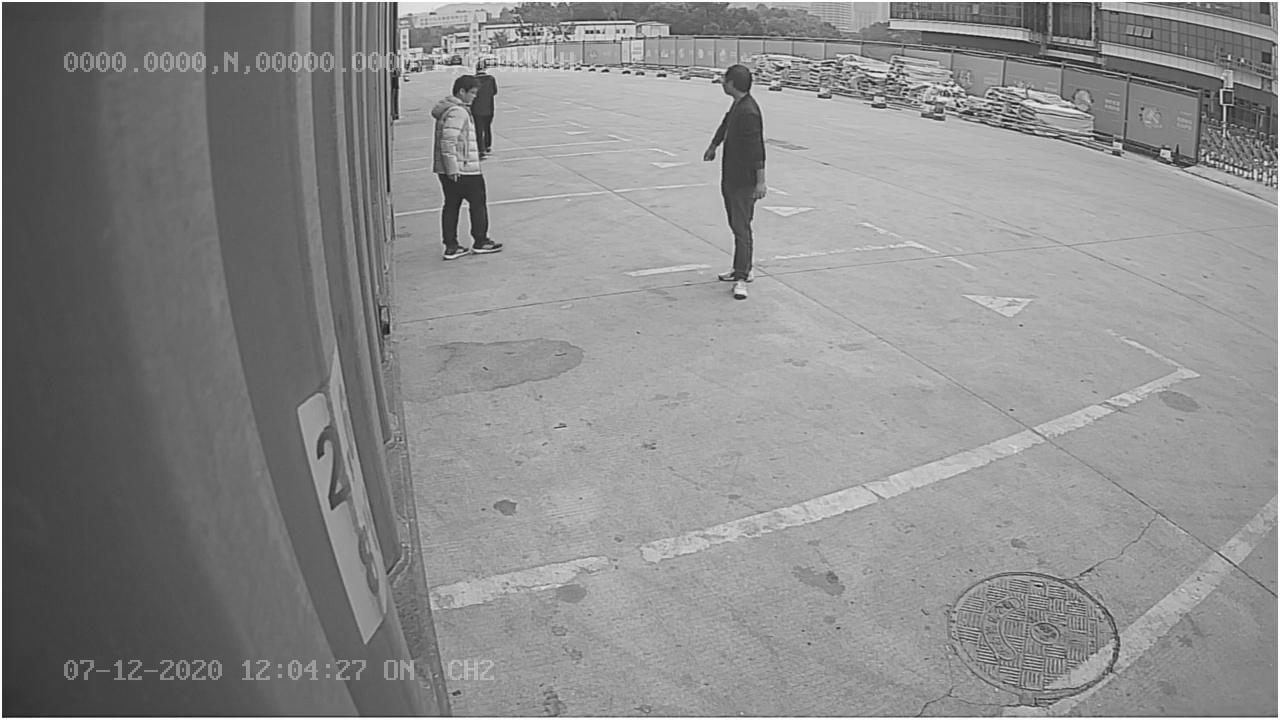person: (698, 61, 777, 299)
